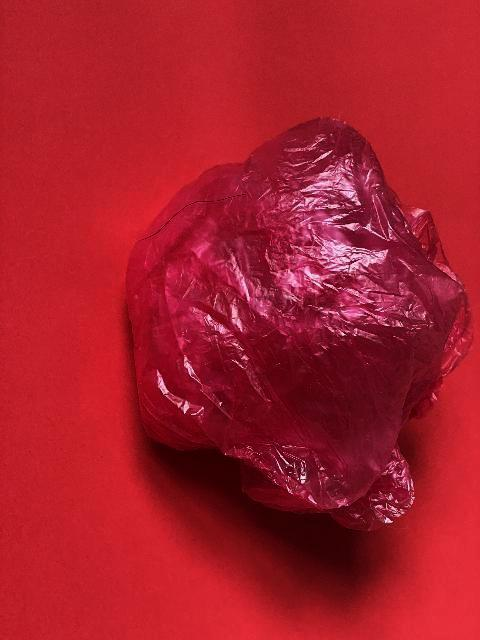plasticbag: (125, 114, 473, 532)
